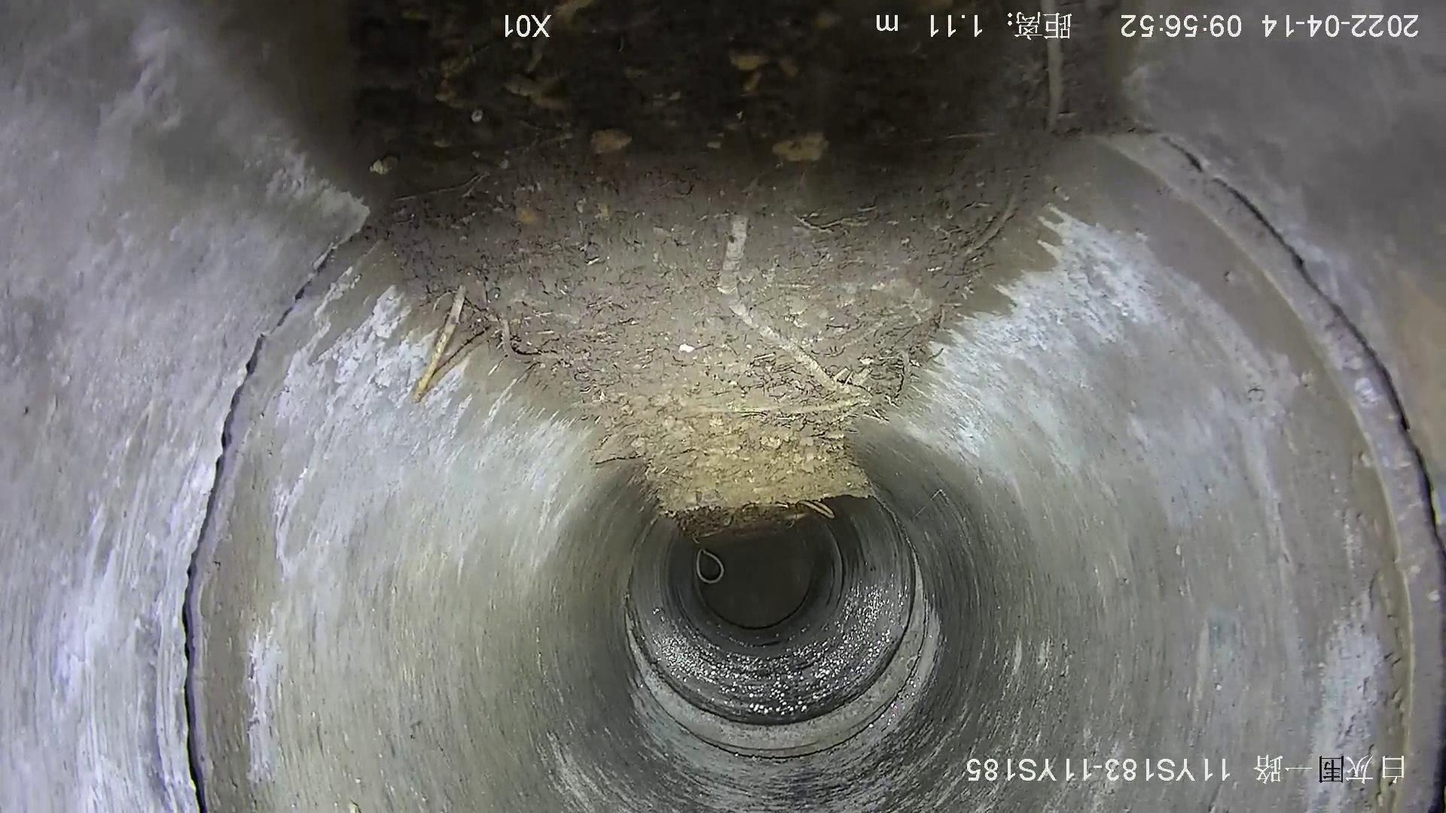CJ: (270, 1, 1071, 537)
CKTJ: (1108, 134, 1446, 813), (182, 232, 377, 813), (627, 561, 928, 757)
